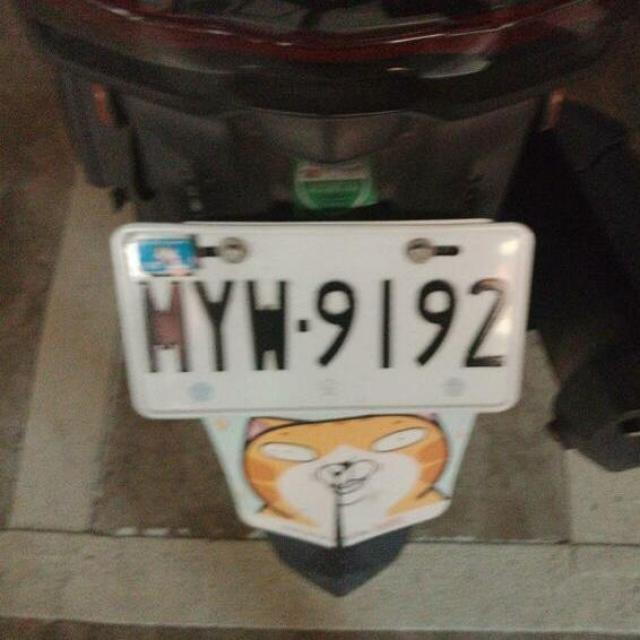W: (96, 197, 546, 446)
